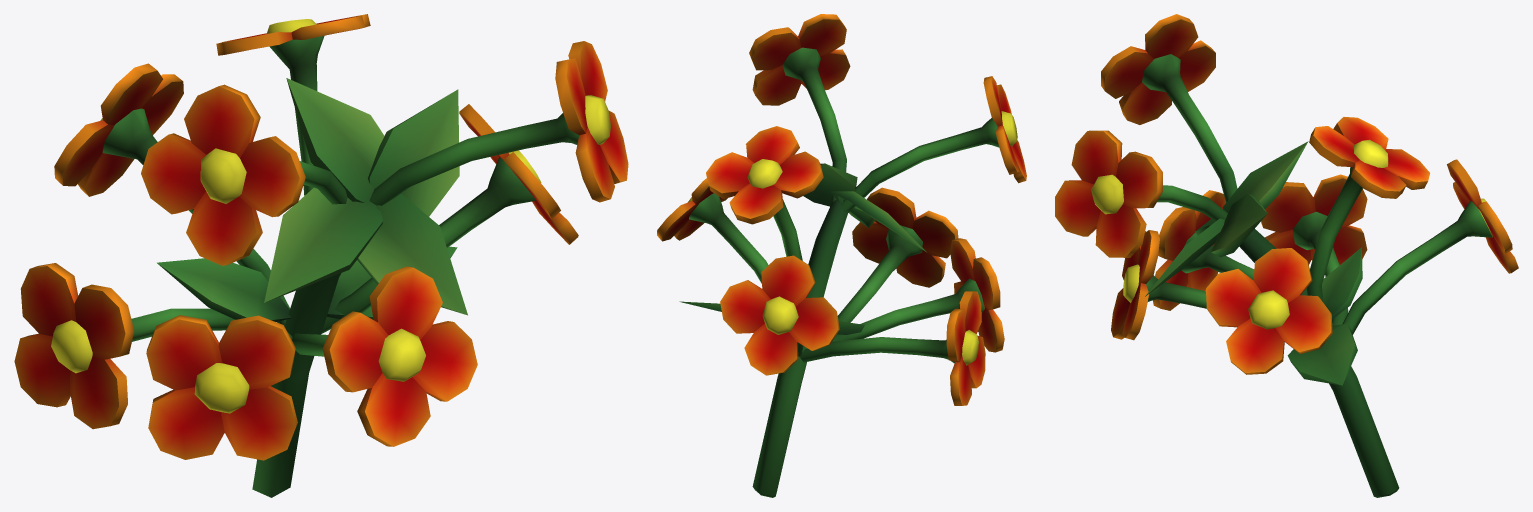
Rendered from SM_Gaillardia_A.fbx.
3 views of the same model, side by side, from view 1: azimuth 30°, elevation 25°; view 2: azimuth 150°, elevation 25°; view 3: azimuth 270°, elevation 25° (orthographic). The views are drawn at different scales.
Visible parts, largest first — view 1: SM_Gaillardia_A; view 2: SM_Gaillardia_A; view 3: SM_Gaillardia_A.
Boxes of the visible parts, x1,y1,x2,y2 form: SM_Gaillardia_A: (14, 14, 628, 497); SM_Gaillardia_A: (657, 14, 1026, 497); SM_Gaillardia_A: (1055, 14, 1518, 497).
Size of the model in its own units: 23.86 by 26.07 by 26.5.
